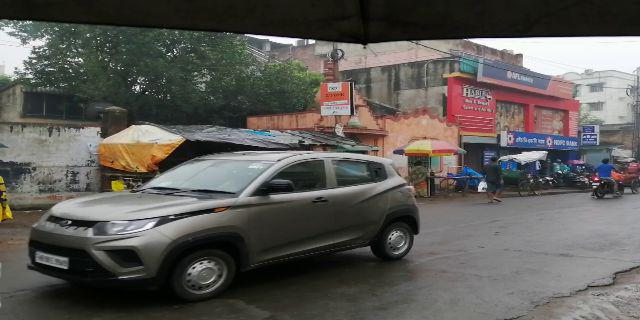Car: (25, 145, 421, 295)
